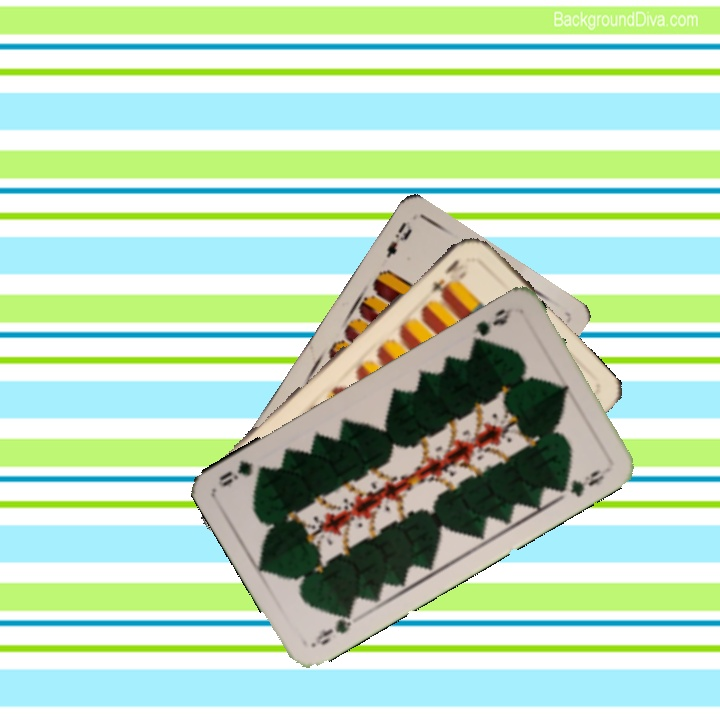E10: (427, 255, 470, 300)
E9: (381, 218, 415, 261)
G9: (467, 303, 516, 348), (308, 607, 355, 649)
